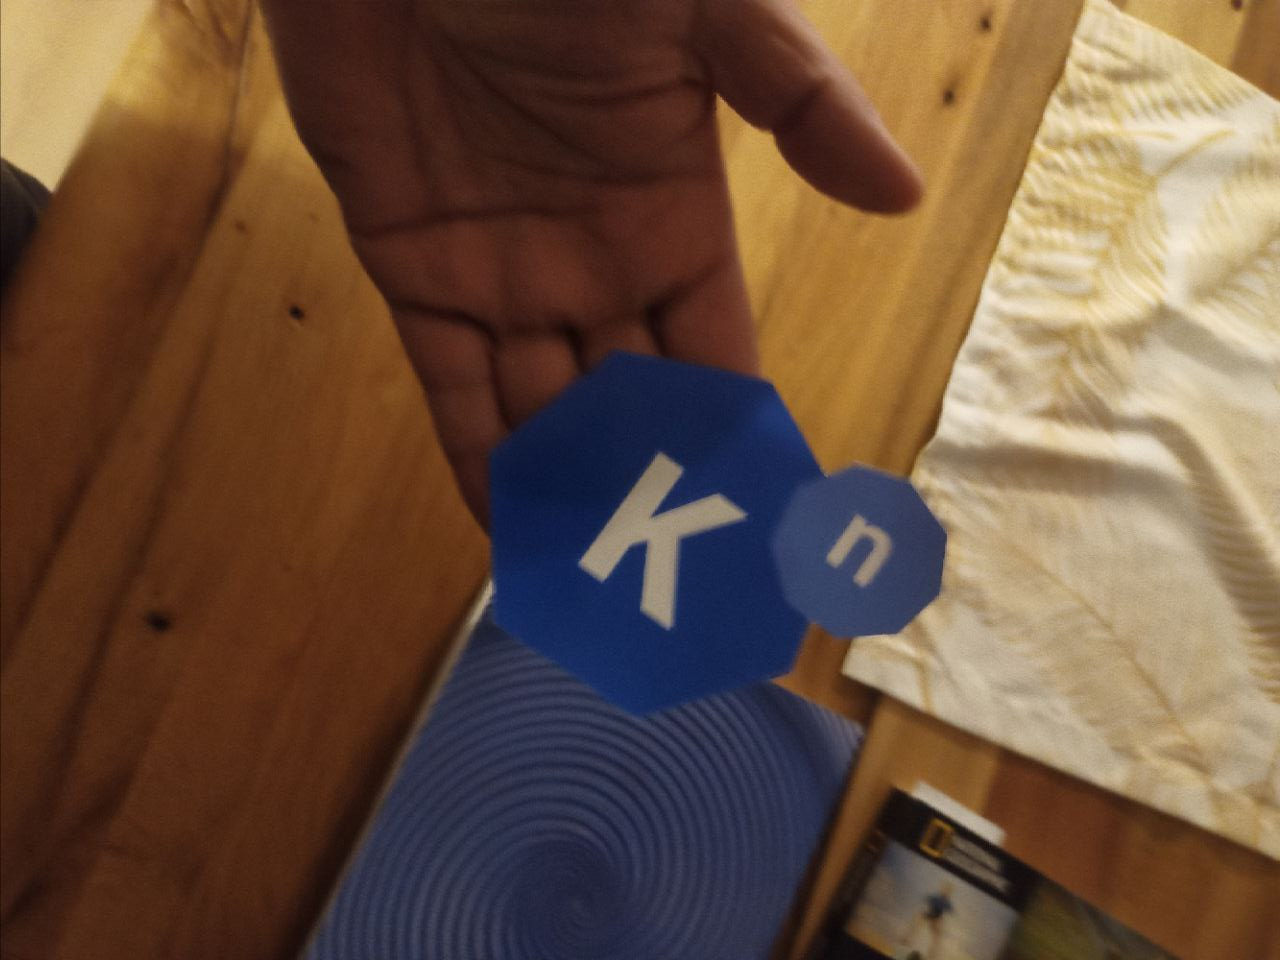knative: (485, 346, 946, 714)
